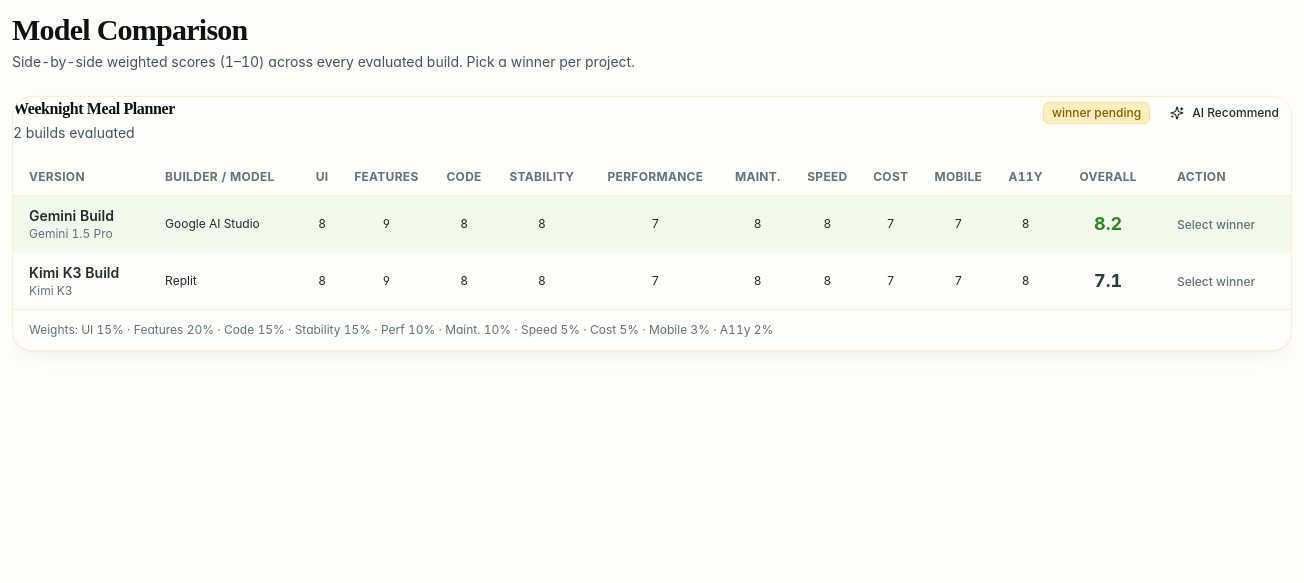
ModelComparisonPage — AI winner recommendation › falls back to the deterministic top score with a hint when OpenRouter is unconfigured
This screenshot has width=1304, height=583.
Click the button with aria-label "Recommend winner for Weeknight Meal Planner".
click(1225, 113)  # box top-left (1158, 97), bottom-right (1291, 129)
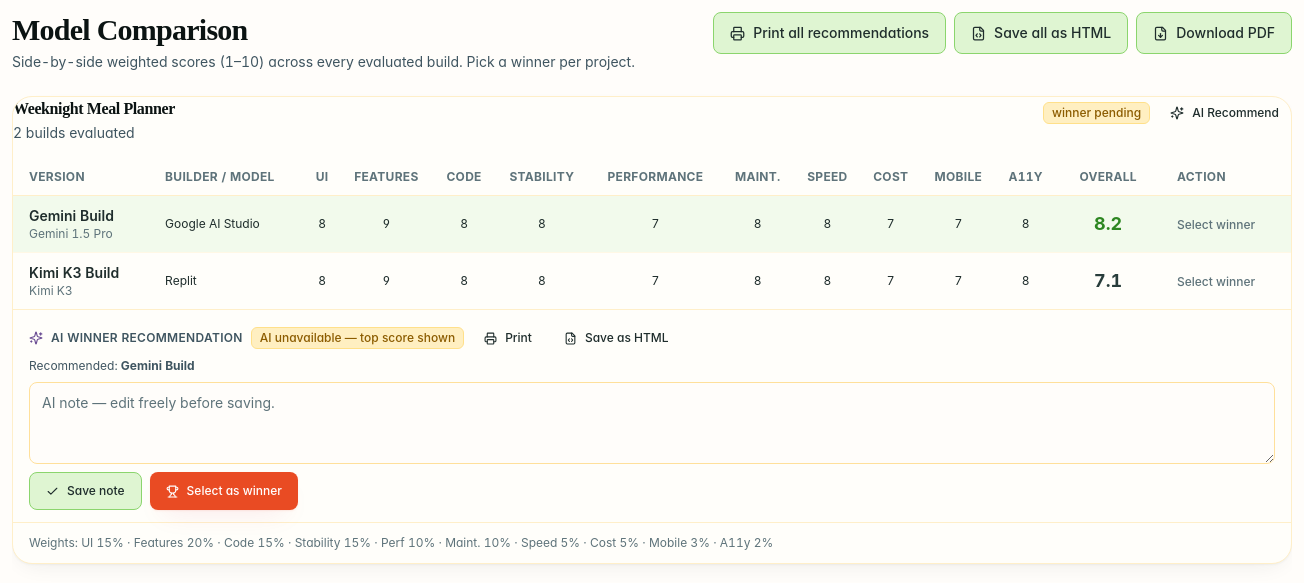
Expected: the text "AI winner recommendation" is shown, top-left (51, 330), bottom-right (243, 346)
Expected: the text "AI unavailable — top score shown" is shown, top-left (251, 327), bottom-right (464, 349)
